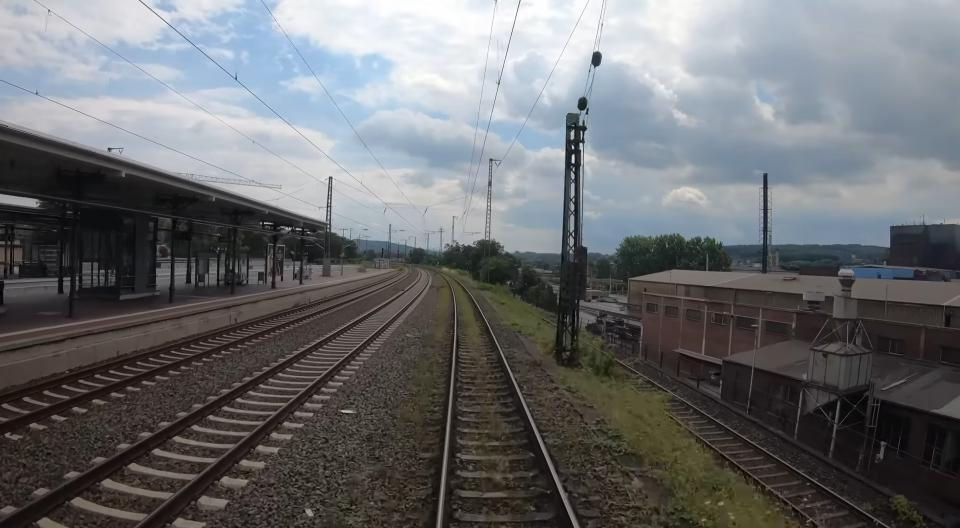Plant: (507, 346, 678, 528), (464, 357, 513, 492), (395, 357, 438, 443), (451, 283, 484, 361), (422, 287, 449, 353)
